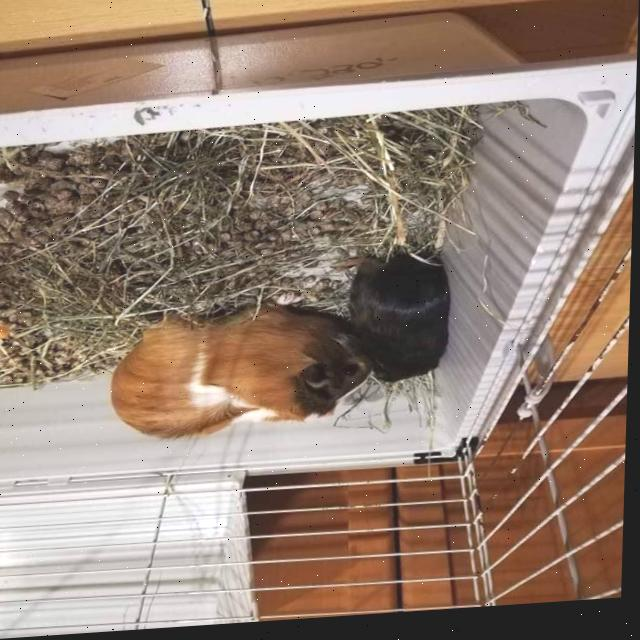guinea pig: (108, 291, 377, 449), (349, 256, 454, 392)
